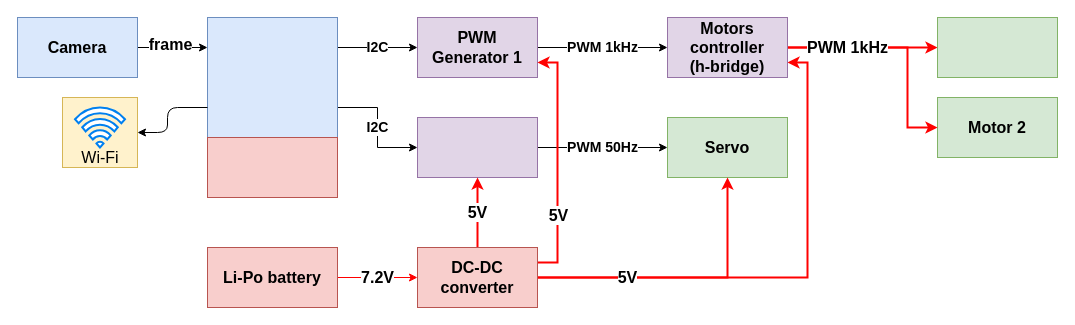
Image size: 1075x325. Some labels were removed from this diagram. Here are the shapes that lost their labels. From the top down, the box of each, then its label:
(936, 16, 1058, 78): Motor 1
(206, 16, 338, 138): Jetson Nano + WiFi card
(206, 136, 338, 198): UPS
(416, 116, 538, 178): PWM Generator 2
